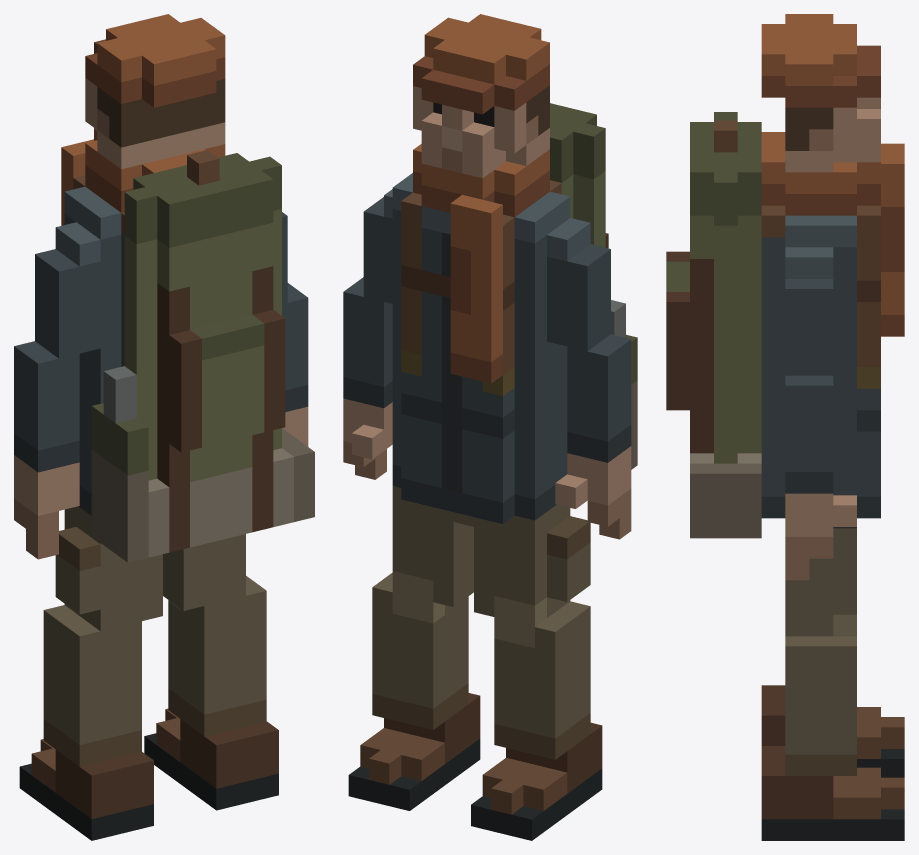
The model's file is Claude_survivor.glb.
The picture shows the model from 3 angles, left to right: view 1: azimuth 30°, elevation 25°; view 2: azimuth 150°, elevation 25°; view 3: azimuth 270°, elevation 25°; orthographic projection. The views are drawn at different scales.
Parts seen in each view (by area): view 1: Claude_survivor; view 2: Claude_survivor; view 3: Claude_survivor.
Part boxes in pixels (<box>): Claude_survivor: <box>14,14,314,840</box>; Claude_survivor: <box>343,14,637,840</box>; Claude_survivor: <box>666,14,904,840</box>.
Size of the model in its own units: 0.65 by 1.75 by 0.5.
